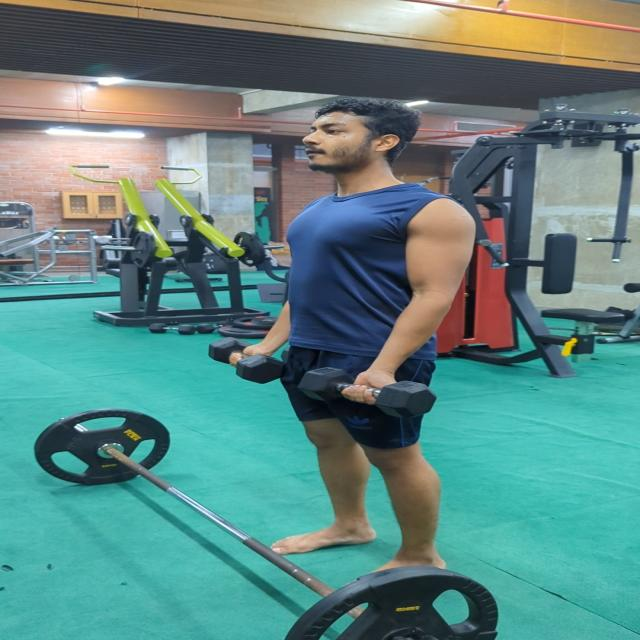Normal_DumbbellBicepCurls: (224, 95, 480, 576)
